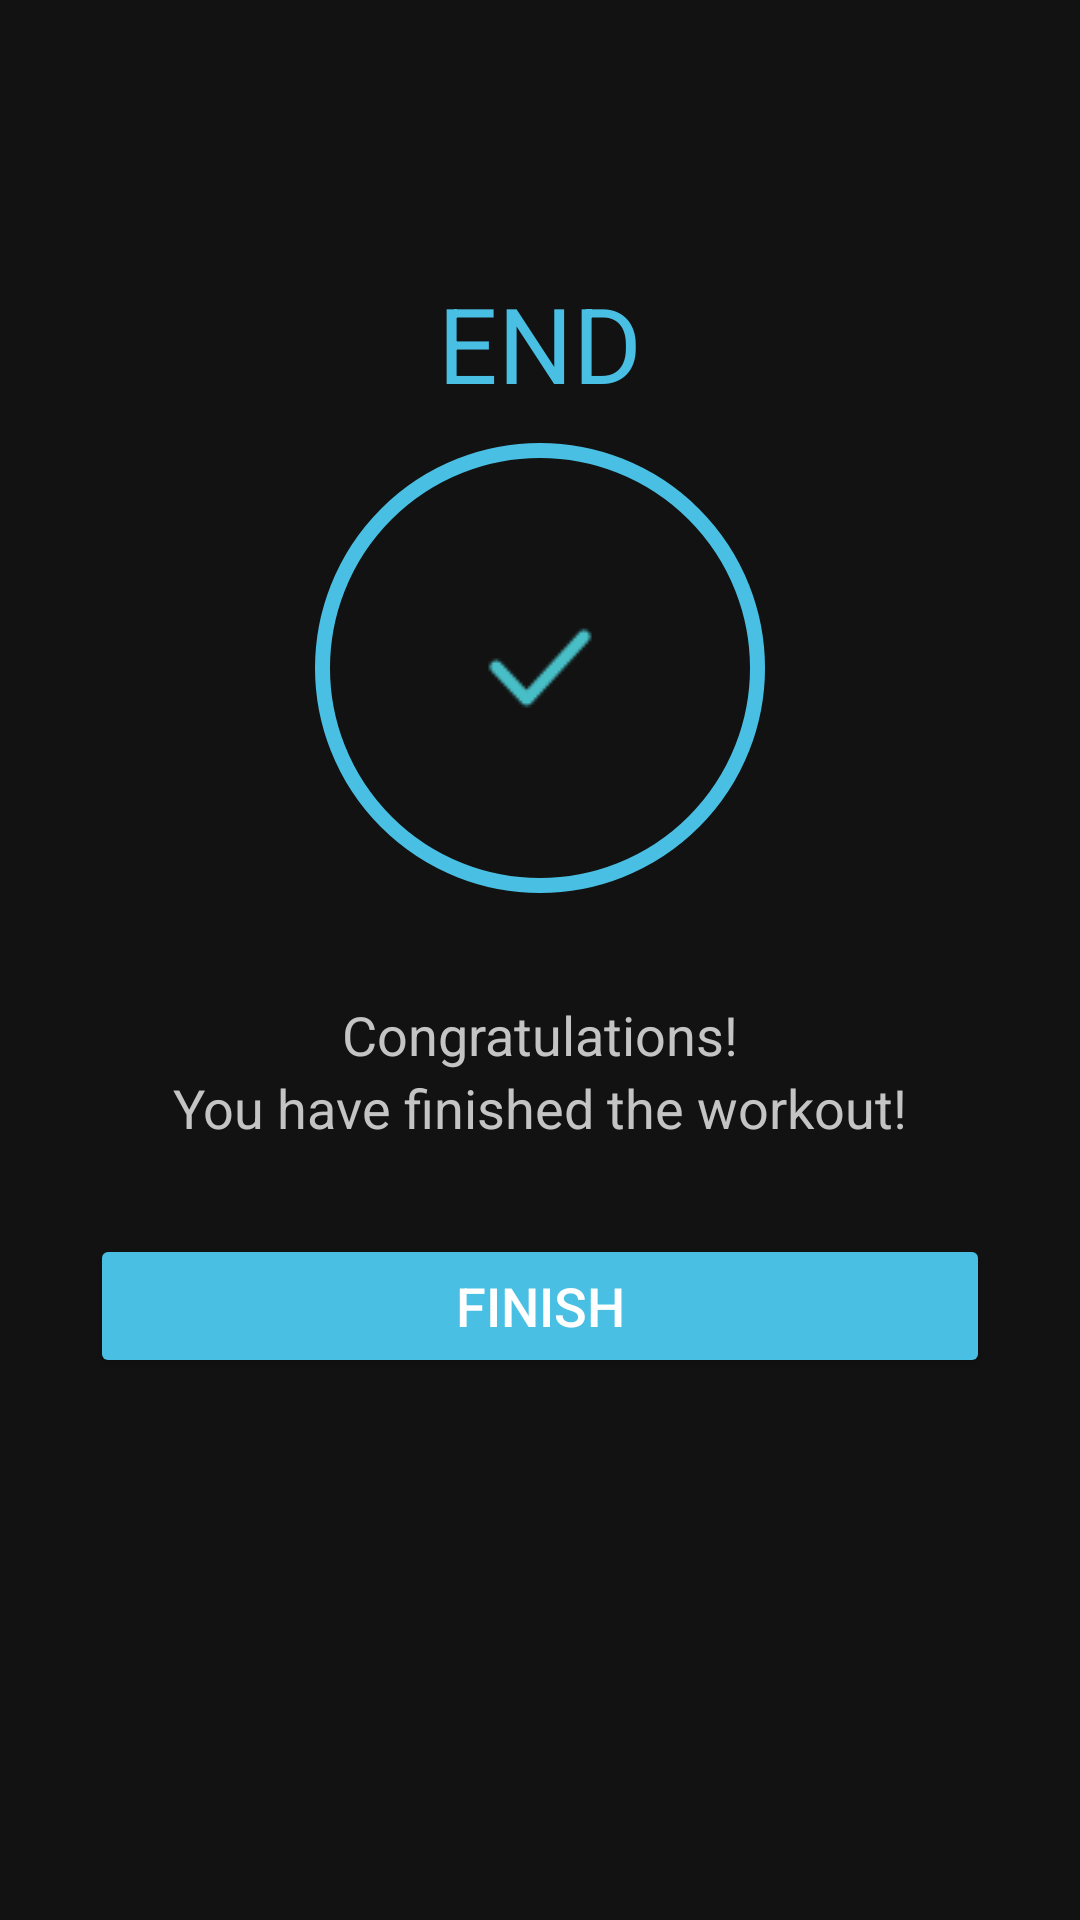

Where icons sit on this 1080px x 1920px app screen, as [x1=x1, y1=y1, x2=x2, y2=y2]:
done image: [x1=488, y1=628, x2=592, y2=708]
